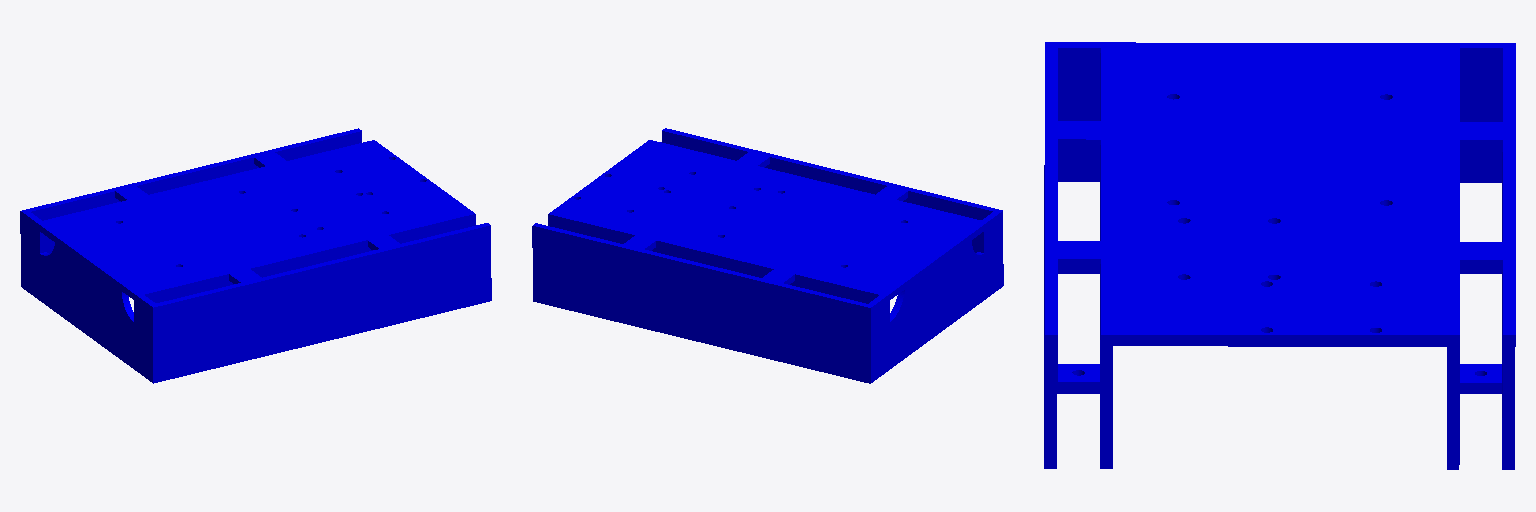
The robot description file, URDF, robot "pibotj":
<?xml version="1.0" ?>
<robot name="pibotj">
  <link name="dummy_link"/>
  <joint name="dummy_joint" type="fixed">
    <parent link="dummy_link"/>
    <child link="base_link"/>
    <origin rpy="0 0 0" xyz="0 0 0"/>
  </joint>
  <link name="base_link">
    <visual>
      <origin rpy="-1.57 0 0" xyz="0 0 0"/>
      <geometry>
        <mesh filename="package://pibotj_urdf_complete/meshes/base.stl" scale="1.0 1.0 1.0"/>
      </geometry>
      <material name="blue">
        <color rgba="0.0 0.0 1.0 1.0"/>
      </material>
    </visual>
    <collision>
      <origin rpy="-1.57 0 0" xyz="0 0 0"/>
      <geometry>
        <mesh filename="package://pibotj_urdf_complete/meshes/base.stl" scale="1.0 1.0 1.0"/>
      </geometry>
    </collision>
    <inertial>
      <origin rpy="-1.57 0 0" xyz="0 0 0"/>
      <mass value="157.633"/>
      <inertia ixx="0.085" ixy="0" ixz="0" iyy="0.085" iyz="0" izz="0.085"/>
    </inertial>
  </link>

  <joint name="base_link_to_psuperior_link" type="fixed">
    <parent link="base_link"/>
    <child link="psuperior_link"/>
    <origin rpy="0 0 0" xyz="0.5 0.5 0.4"/>
  </joint>

  <link name="psuperior_link">
    <visual>
      <origin rpy="3.14 0 0" xyz="0 0 0"/>
      <geometry>
        <mesh filename="package://pibotj_urdf_complete/meshes/psuperior.stl" scale="1.0 1.0 1.0"/>
      </geometry>
      <material name="blue">
        <color rgba="0.0 0.0 1.0 1.0"/>
      </material>
    </visual>
    <collision>
      <origin rpy="3.14 0 0" xyz="0 0 0"/>
      <geometry>
        <mesh filename="package://pibotj_urdf_complete/meshes/psuperior.stl" scale="1.0 1.0 1.0"/>
      </geometry>
    </collision>
    <inertial>
      <origin rpy="3.14 0 0" xyz="0 0 0"/>
      <mass value="157.633"/>
      <inertia ixx="0.085" ixy="0" ixz="0" iyy="0.085" iyz="0" izz="0.085"/>
    </inertial>
  </link>

  <!-- Configuración para Gazebo -->
  <gazebo>
    <plugin filename="libgazebo_ros_control.so" name="gazebo_ros_control"/>
  </gazebo>
</robot>

--- What the picture shows (computed from the rendered views, not written in the file) ---
3 views of the same robot in one strip: view 1: azimuth 30°, elevation 25°; view 2: azimuth 150°, elevation 25°; view 3: azimuth 270°, elevation 25° (orthographic).
Robot: pibotj — 3 links, 2 joints (2 fixed); root link dummy_link; default pose: every joint at zero.
Links seen in each view (by area): view 1: psuperior_link; view 2: psuperior_link; view 3: psuperior_link.
Boxes of the visible links, x1=… form: psuperior_link: x1=20, y1=128, x2=491, y2=383; psuperior_link: x1=532, y1=128, x2=1003, y2=383; psuperior_link: x1=1044, y1=42, x2=1515, y2=469.
Bounding box of the posed robot: 161 × 110 × 34.72 m (x, y, z).
1 mesh visuals loaded from 2 distinct referenced files (1 binary STL); not drawn: 1 (reference not matched to a file when rendering).
